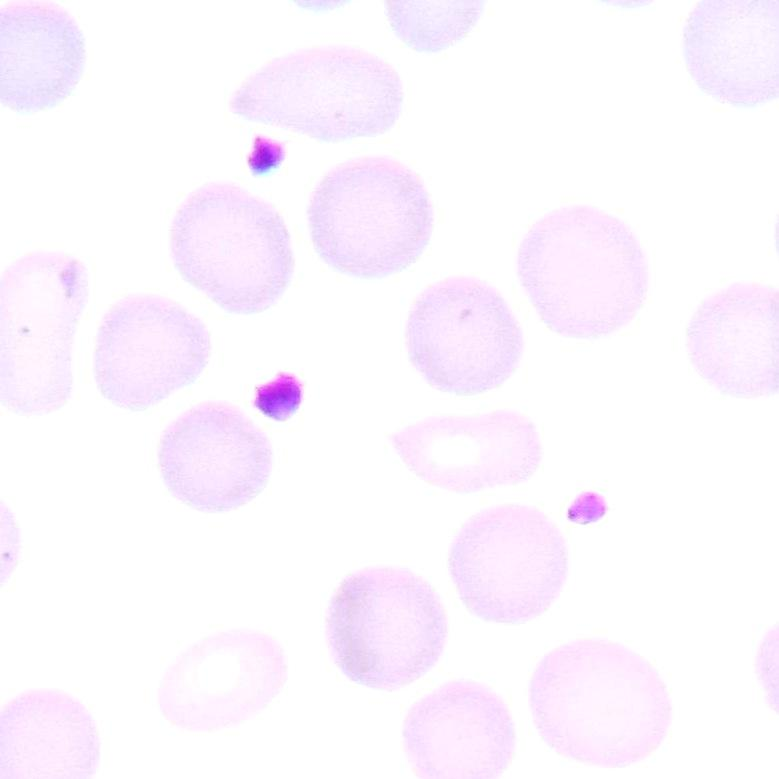Uninfected: (530, 639, 668, 765), (519, 207, 647, 336), (306, 156, 432, 282), (231, 47, 400, 140), (169, 184, 291, 312), (0, 249, 91, 415), (325, 567, 445, 689), (447, 505, 565, 623), (405, 276, 523, 392), (157, 628, 287, 731), (93, 294, 208, 409), (157, 402, 273, 512), (392, 409, 540, 493), (687, 285, 778, 396), (404, 685, 512, 776), (686, 0, 778, 105), (0, 0, 86, 111), (0, 692, 97, 776)
